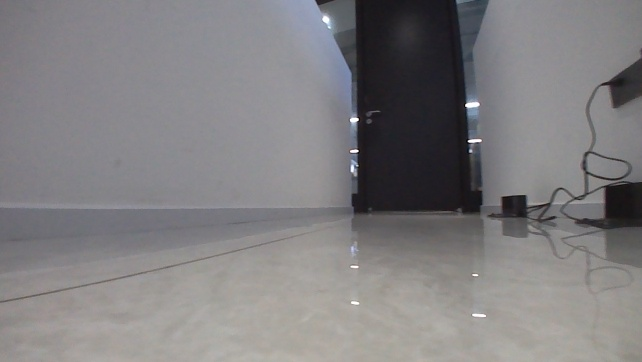charger: (572, 180, 641, 232), (487, 192, 529, 220)
door_anno: (353, 0, 473, 211)
wire: (529, 77, 635, 226)
